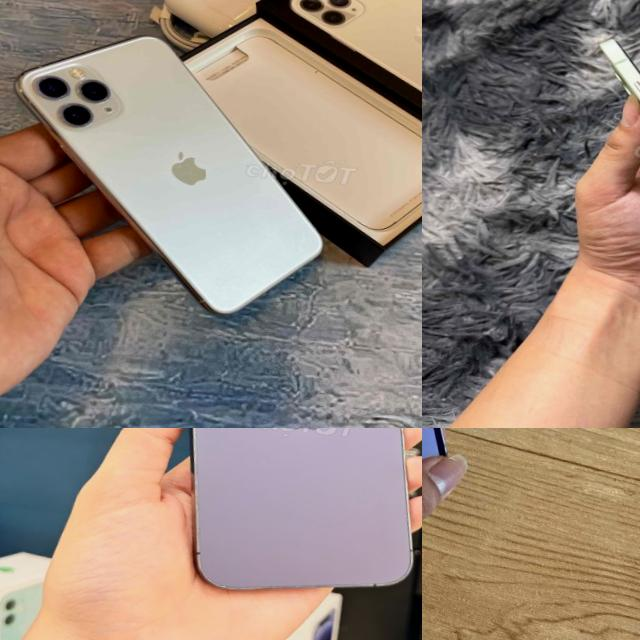gen_11: (16, 36, 321, 312)
gen_14: (152, 428, 422, 609)
gen_15: (564, 11, 640, 310)
